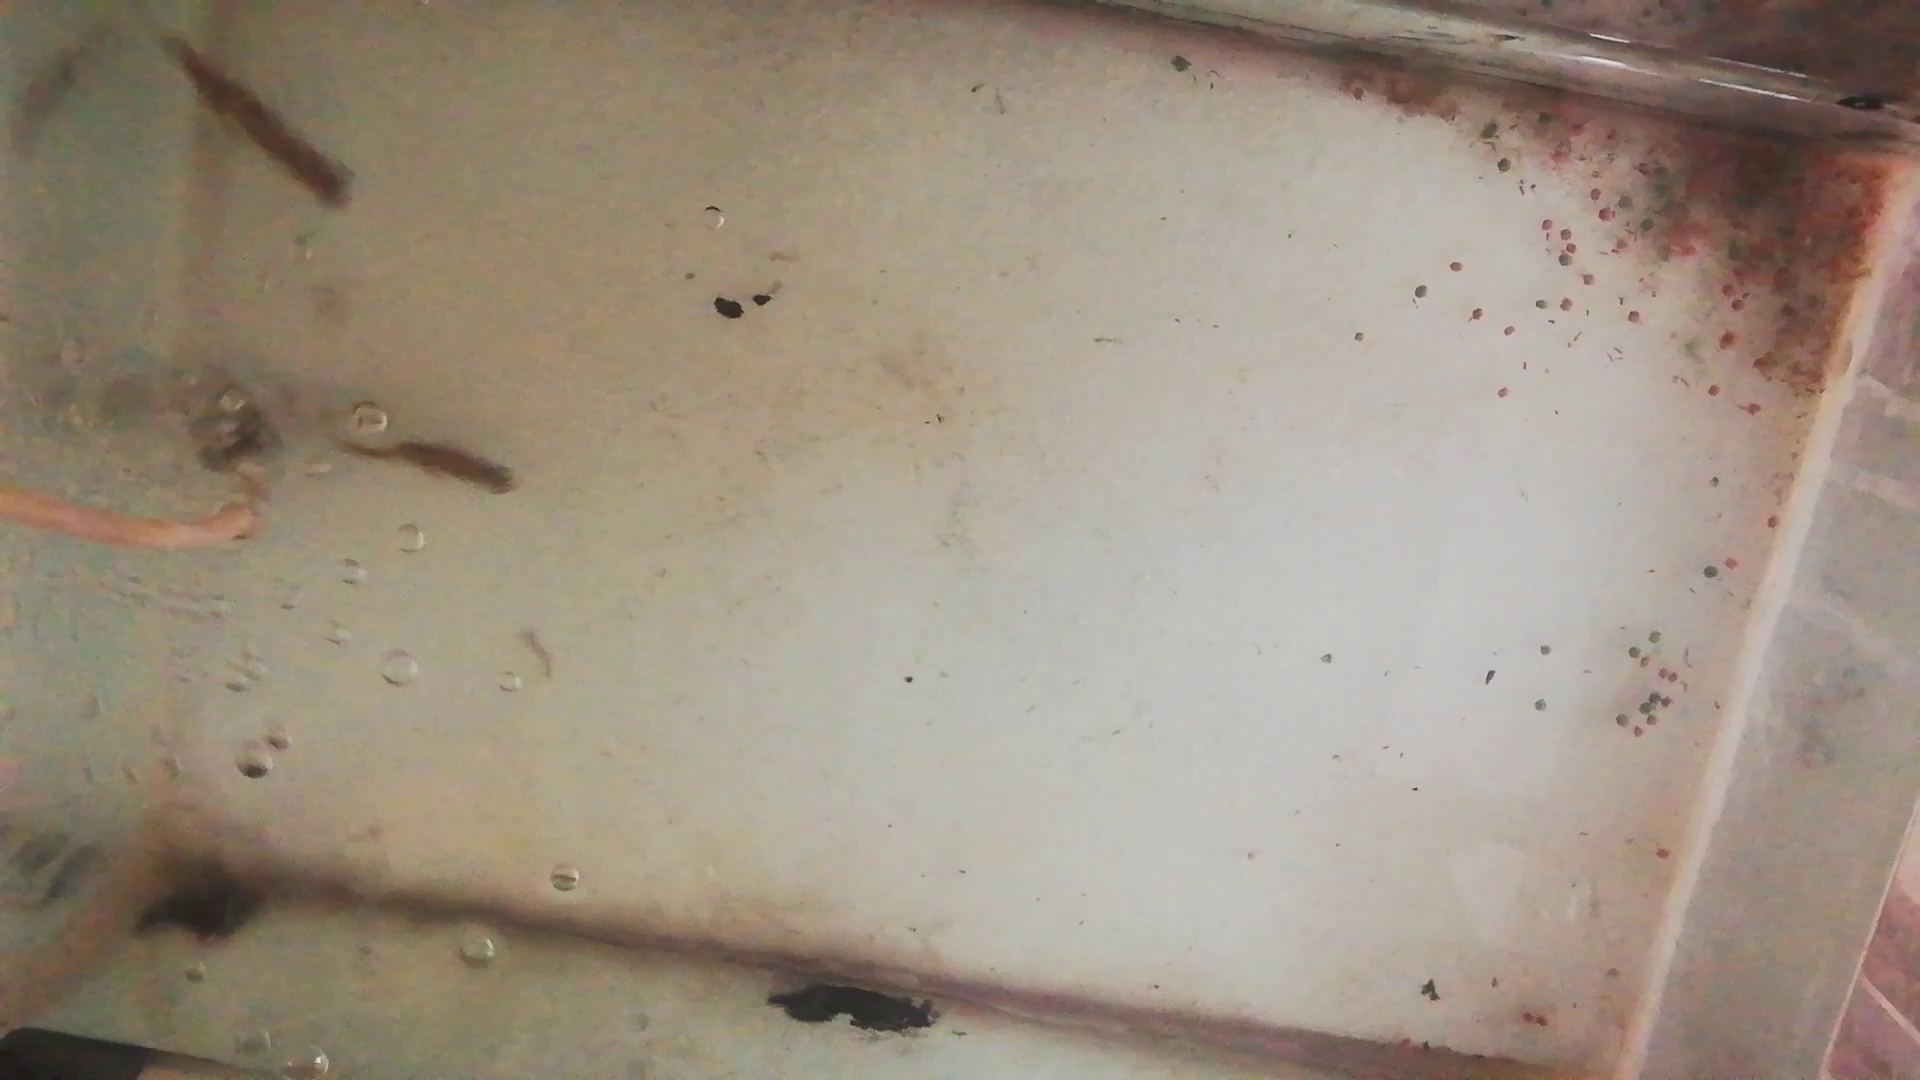fish: (150, 33, 357, 208), (324, 423, 521, 500)
